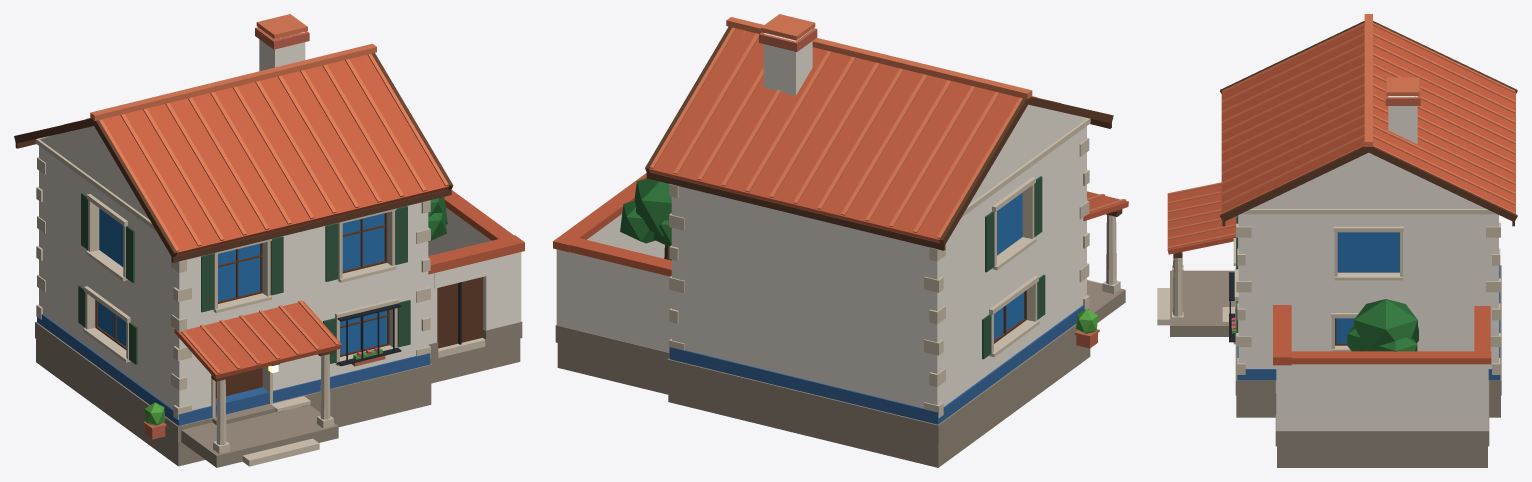
Rendered from 05_extremadura_traditional-lod0.glb.
3 views of the same model, side by side, from view 1: azimuth 30°, elevation 25°; view 2: azimuth 150°, elevation 25°; view 3: azimuth 270°, elevation 25° (orthographic). The views are drawn at different scales.
Visible parts, largest first — view 1: CasaExtrema_LOD0; view 2: CasaExtrema_LOD0; view 3: CasaExtrema_LOD0.
Part boxes in pixels (x1,y1,x2,y2): CasaExtrema_LOD0: (14,14,524,467); CasaExtrema_LOD0: (553,14,1128,467); CasaExtrema_LOD0: (1157,14,1517,467).
Size of the model in its own units: 12.07 by 9.85 by 10.51.
Materials: 2 (2 with a texture image).
